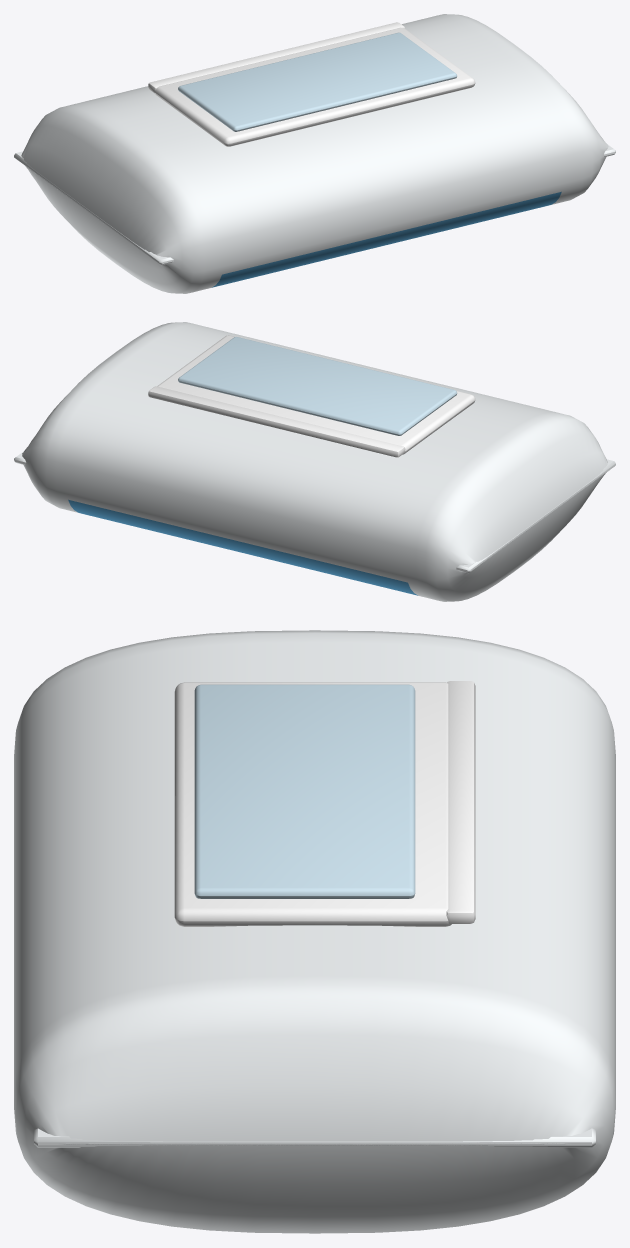
File: item-wet-wipes.glb
3 views of the same model, one above another, from view 1: azimuth 30°, elevation 25°; view 2: azimuth 150°, elevation 25°; view 3: azimuth 270°, elevation 25° (orthographic). The views are drawn at different scales.
Parts seen in each view (by area): view 1: item-wet-wipes; view 2: item-wet-wipes; view 3: item-wet-wipes.
Part boxes in pixels (x1=…): item-wet-wipes: x1=14, y1=14, x2=615, y2=293; item-wet-wipes: x1=14, y1=322, x2=615, y2=601; item-wet-wipes: x1=14, y1=630, x2=615, y2=1233.
Size of the model in its own units: 0.2 by 0.059 by 0.12.
